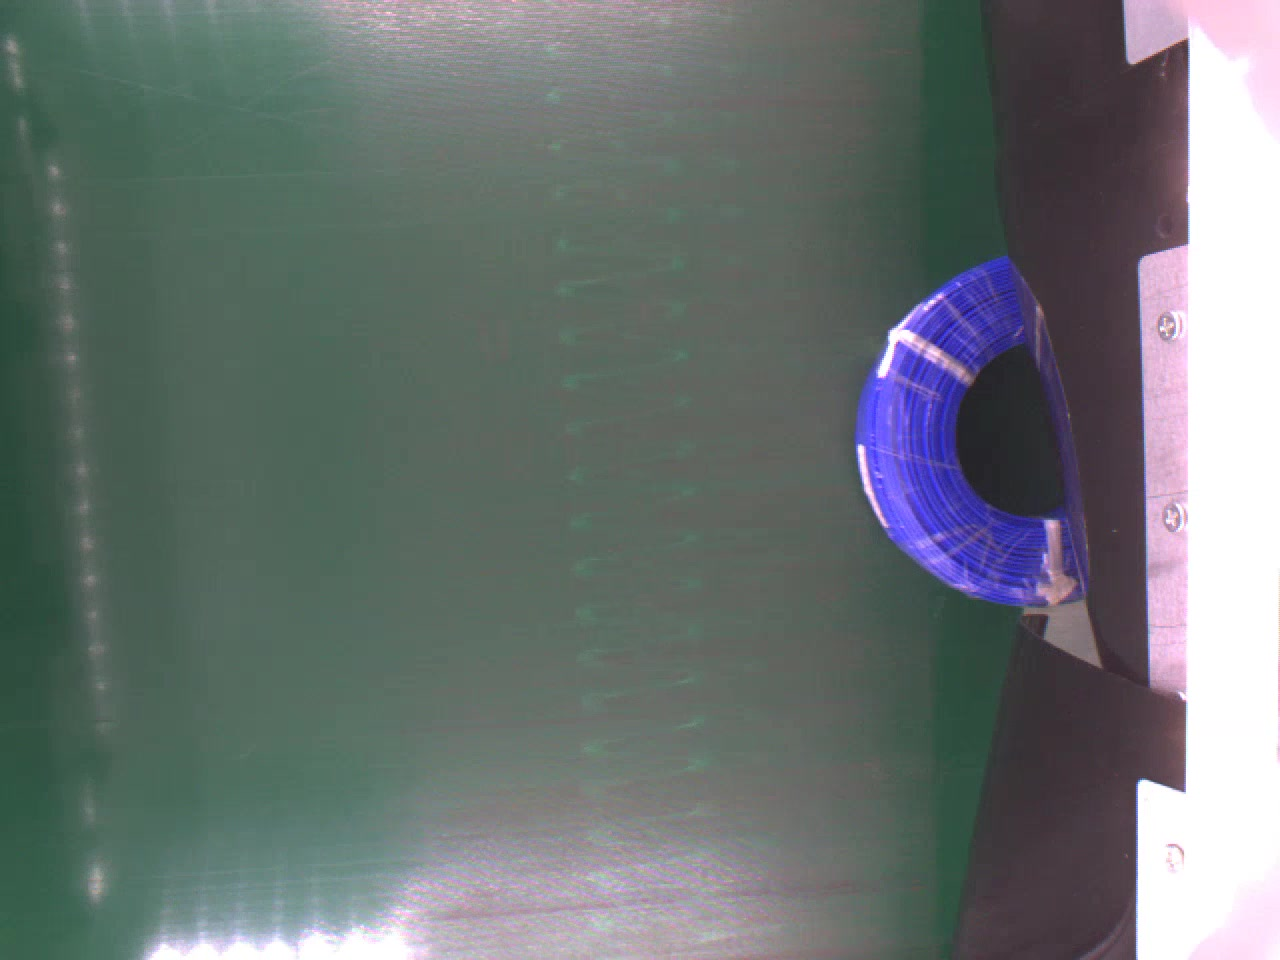blue: (856, 259, 1092, 606)
